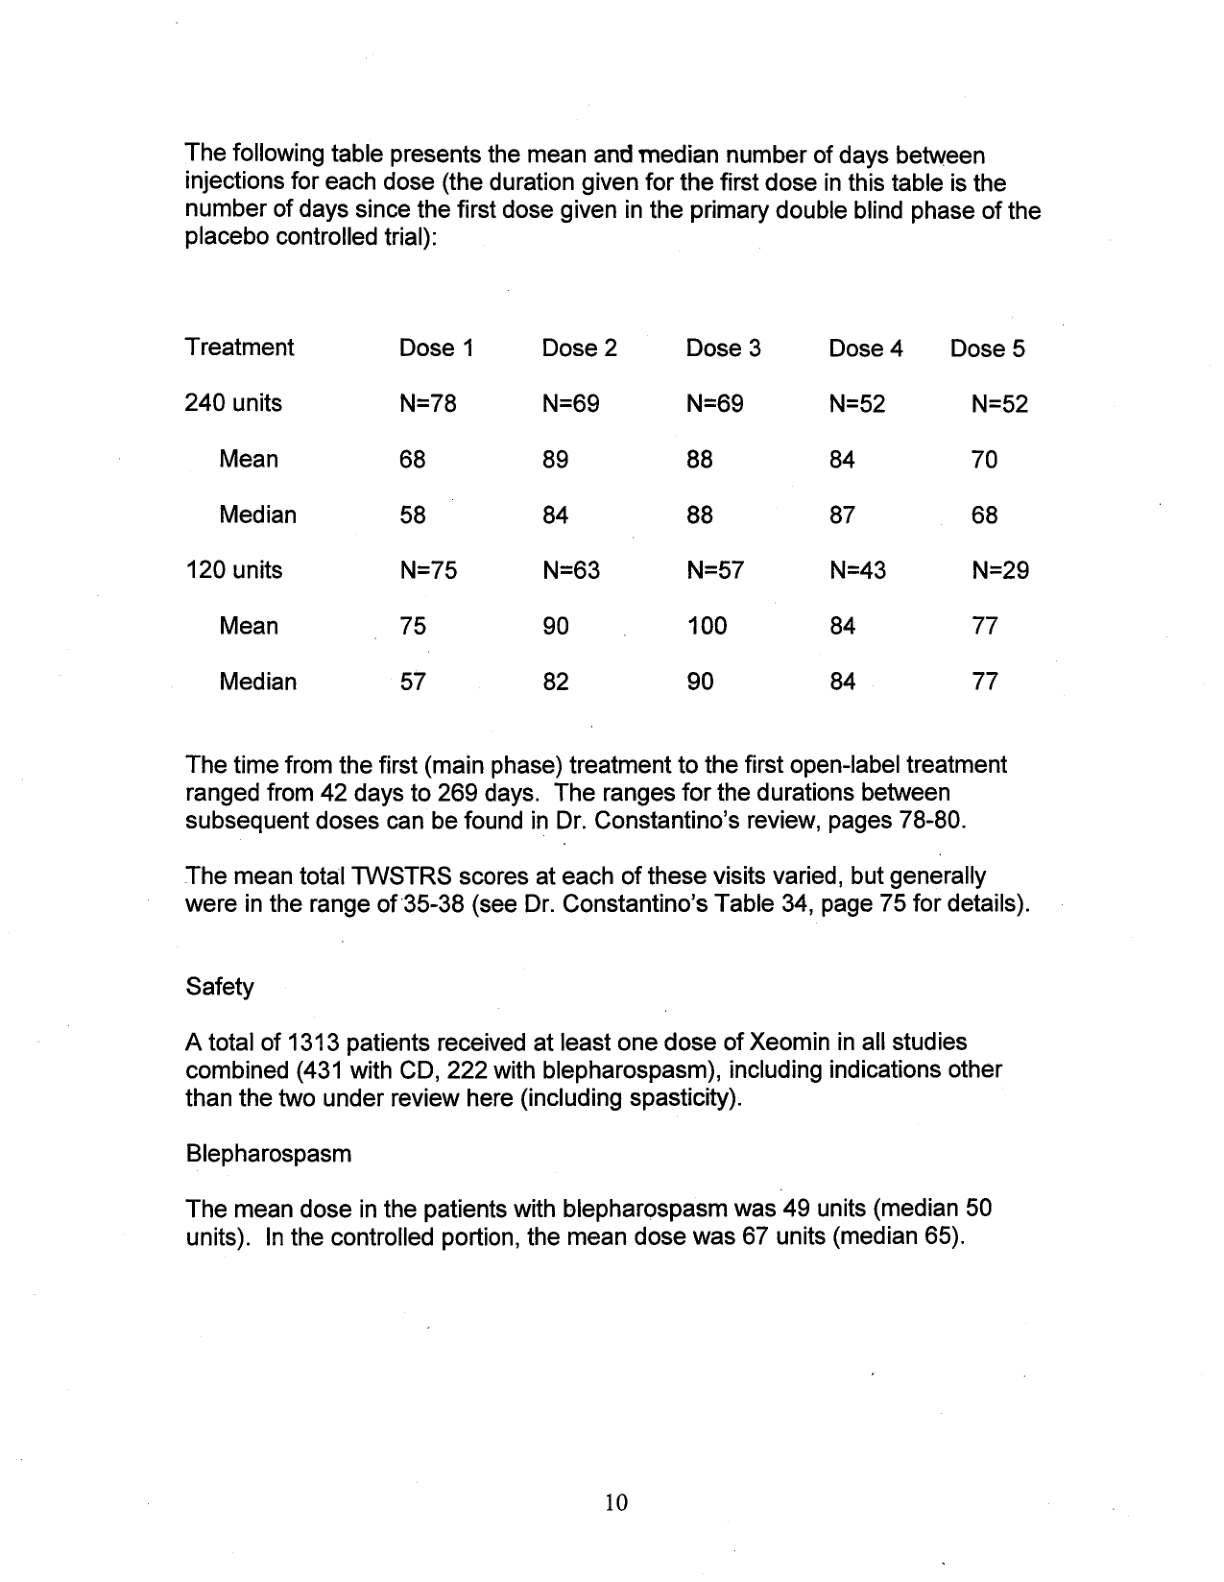nolines: (182, 331, 1033, 697)
